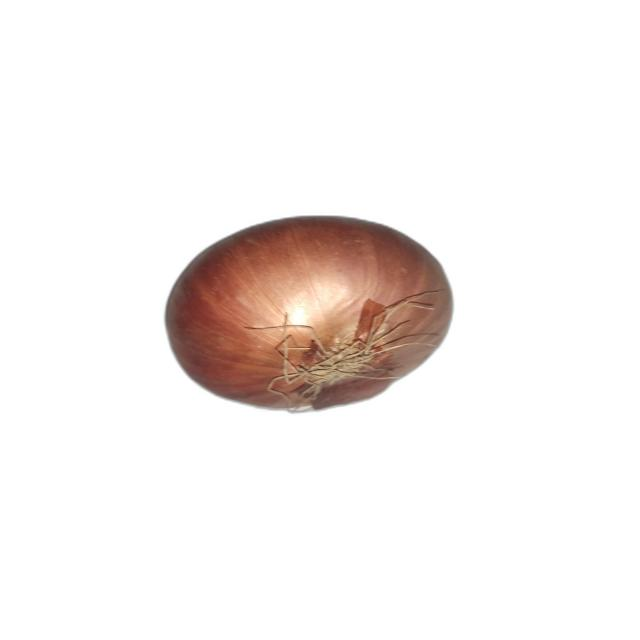onion: (164, 214, 456, 414)
